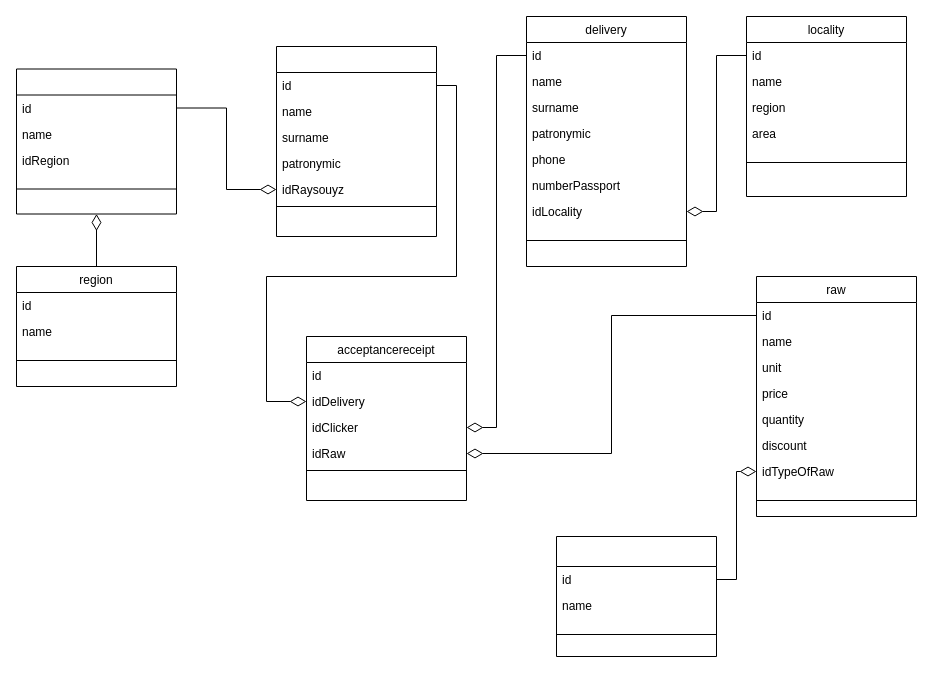
This 933x673 diagram has some shape labels left out. Here are the shapes that lost their labels. From the top down, the box of each, then its label:
(16, 68, 176, 214): raysoyuz
(276, 46, 436, 236): clicker
(556, 536, 716, 656): typeofraw
